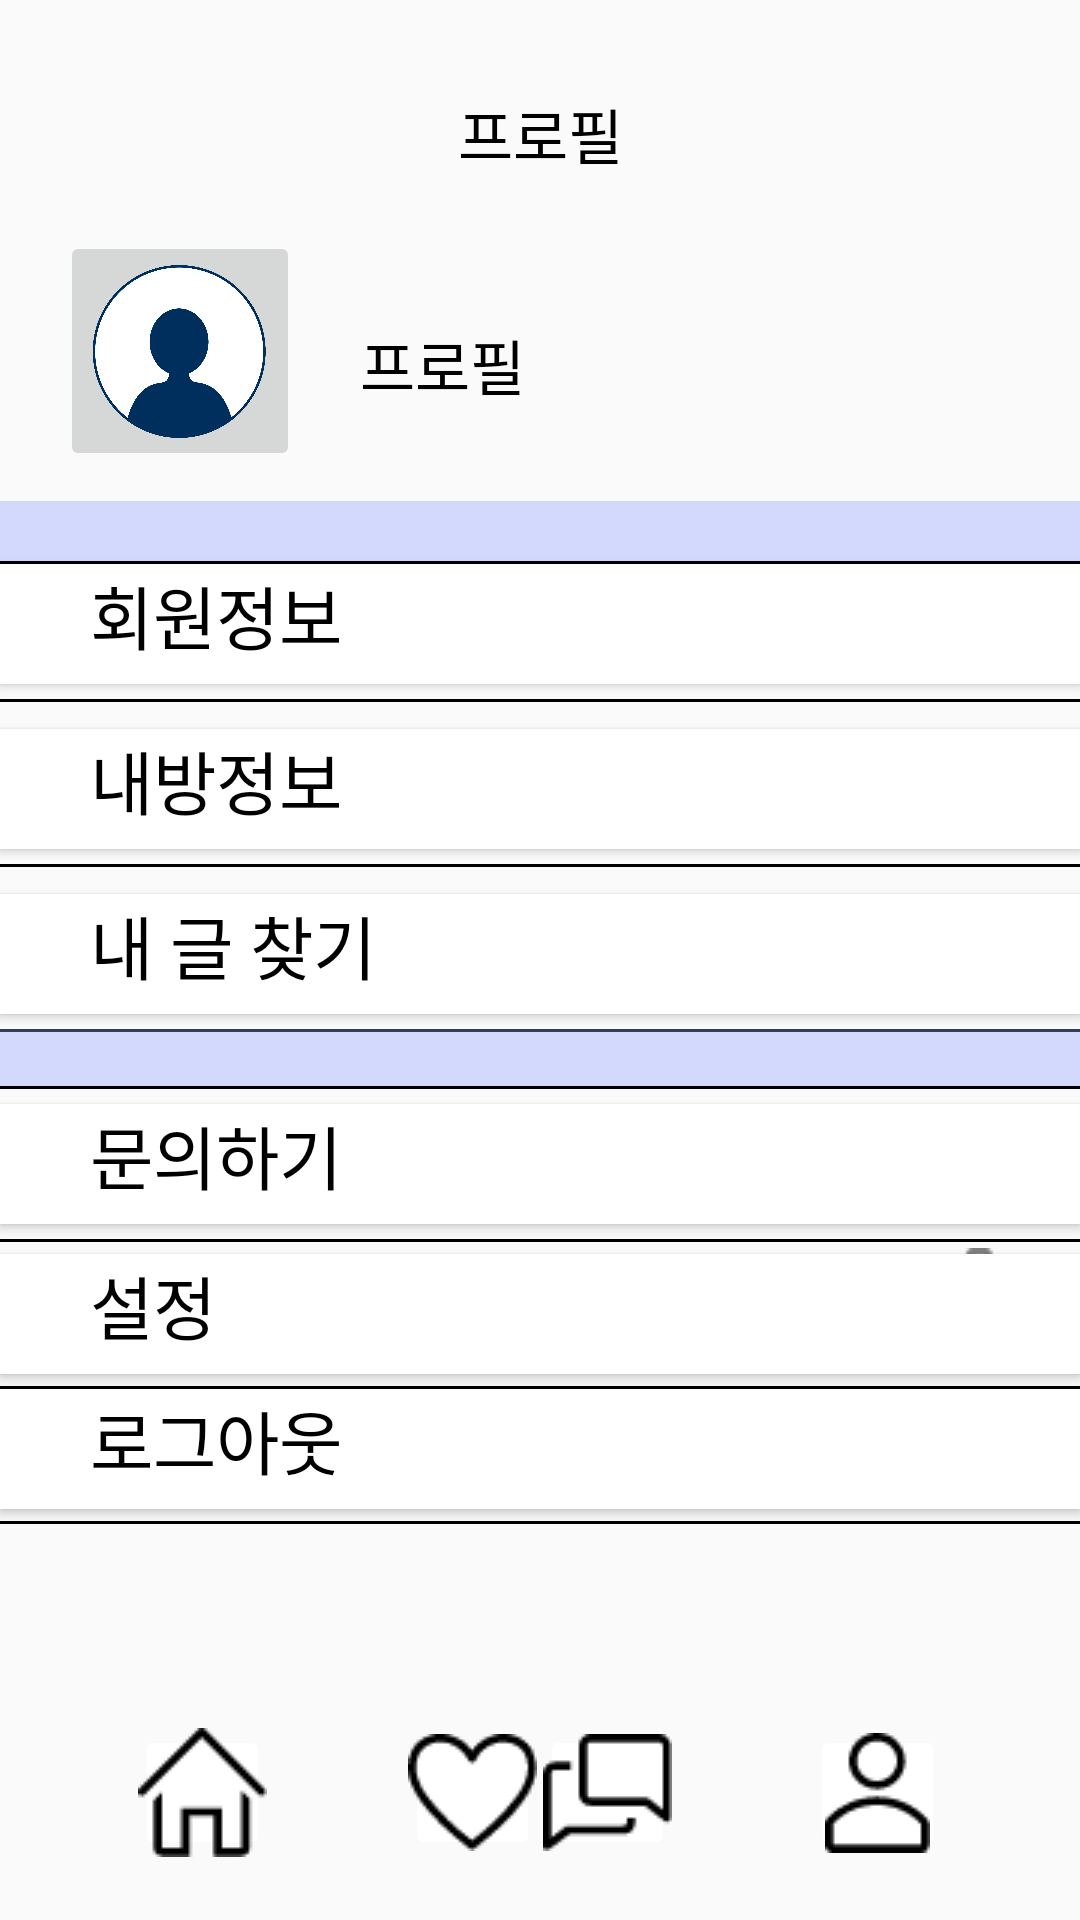

Icon bounding boxes for this 1080 x 1920 phone screenshot, format region(x1, y1, x2, y2):
avatarimage: region(72, 249, 288, 453)
heart line: region(408, 1734, 537, 1851)
home line: region(138, 1728, 267, 1857)
talk line: region(543, 1734, 672, 1851)
